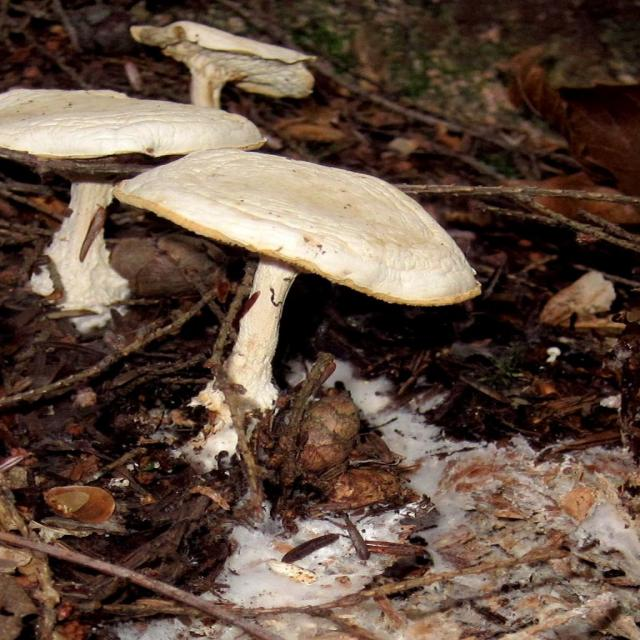mushroom: (88, 151, 470, 516), (0, 87, 268, 335), (129, 18, 318, 109)
